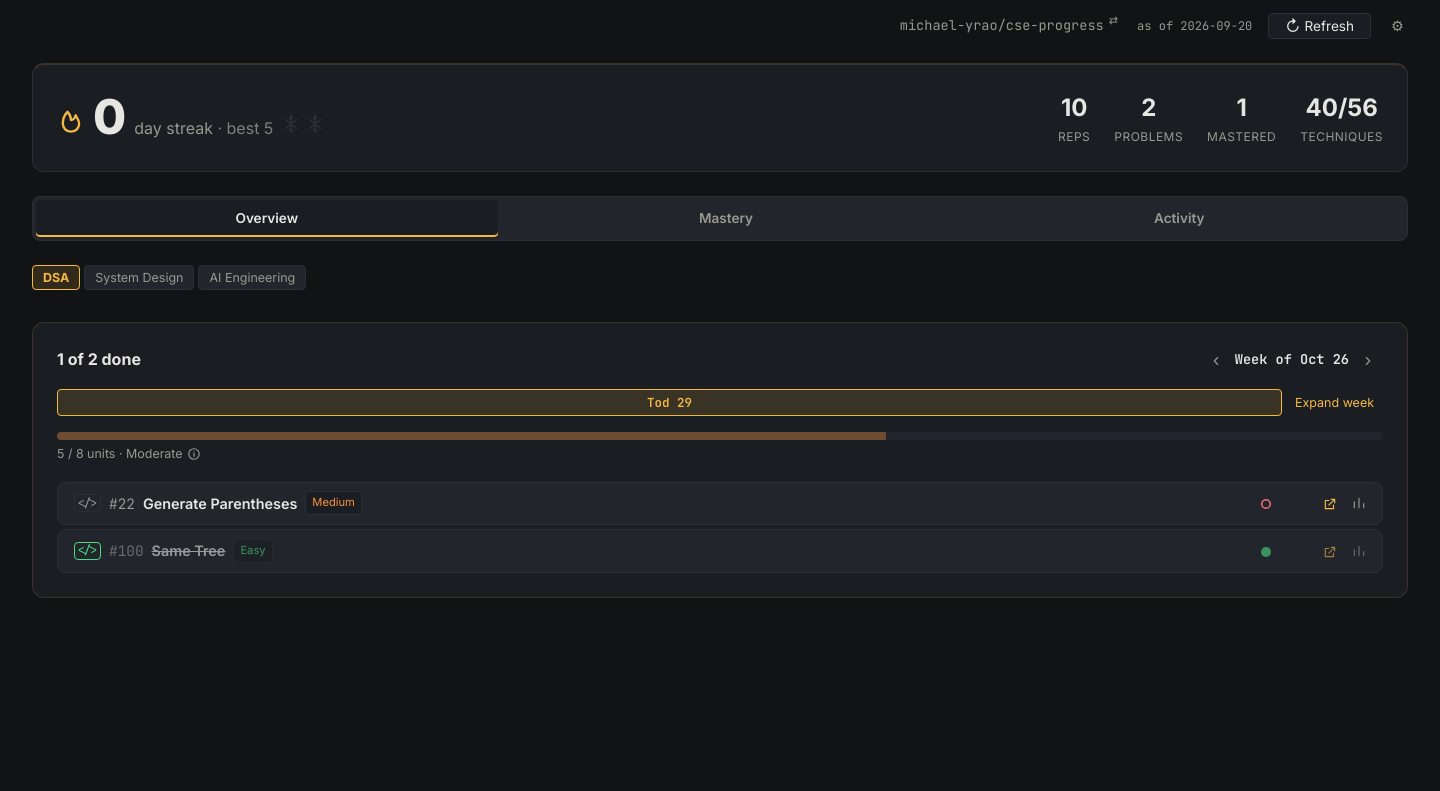
Test: ProgressPageComponent › the technique list is hidden until the roadmap card reveals it (toggle or tile), and shown when there is no roadmap card
Click the tab with id "tab-mastery" at (726, 218), box 500,200 -> 952,237
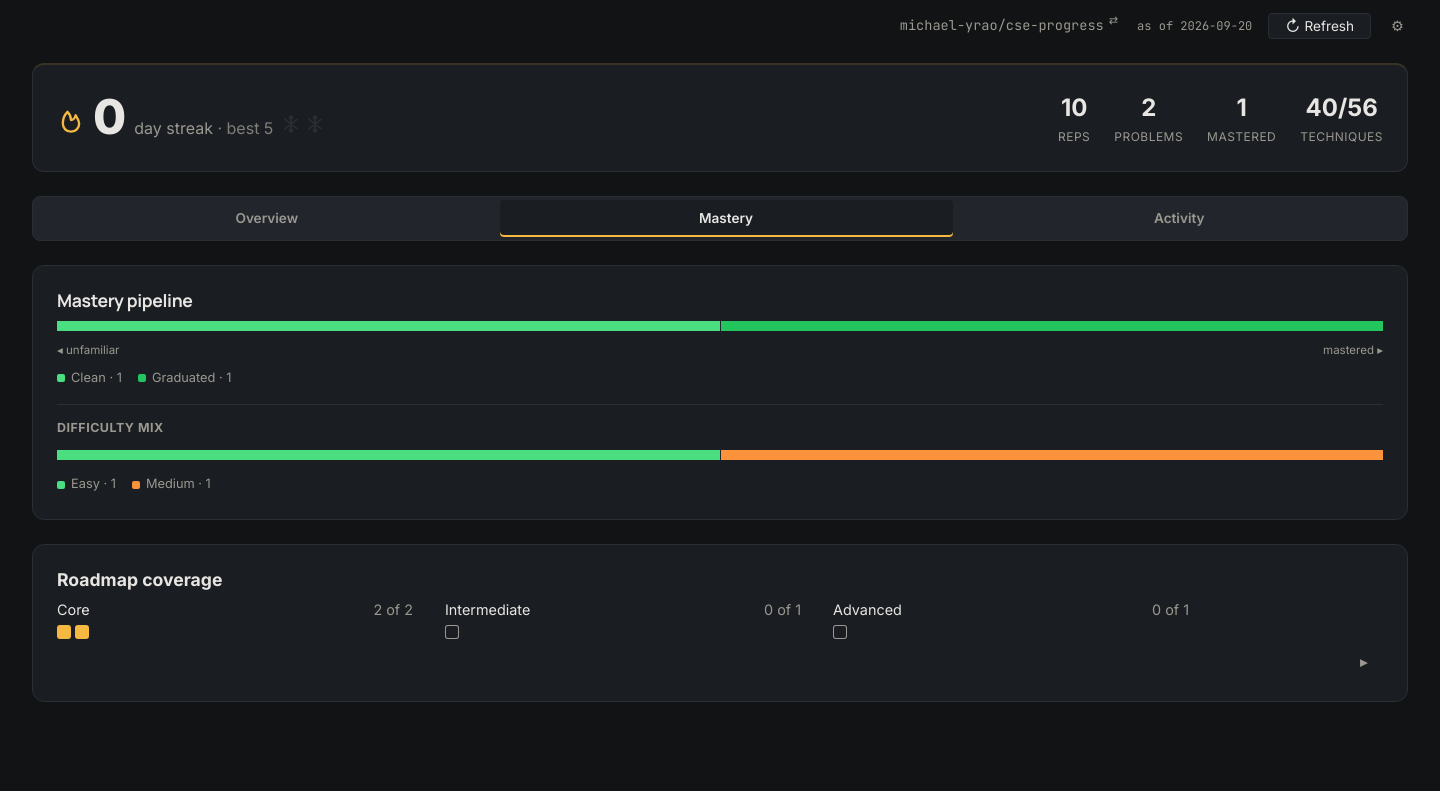
Click the button "▸" at (1364, 662), box 1344,647 -> 1383,677
(page scrolled)
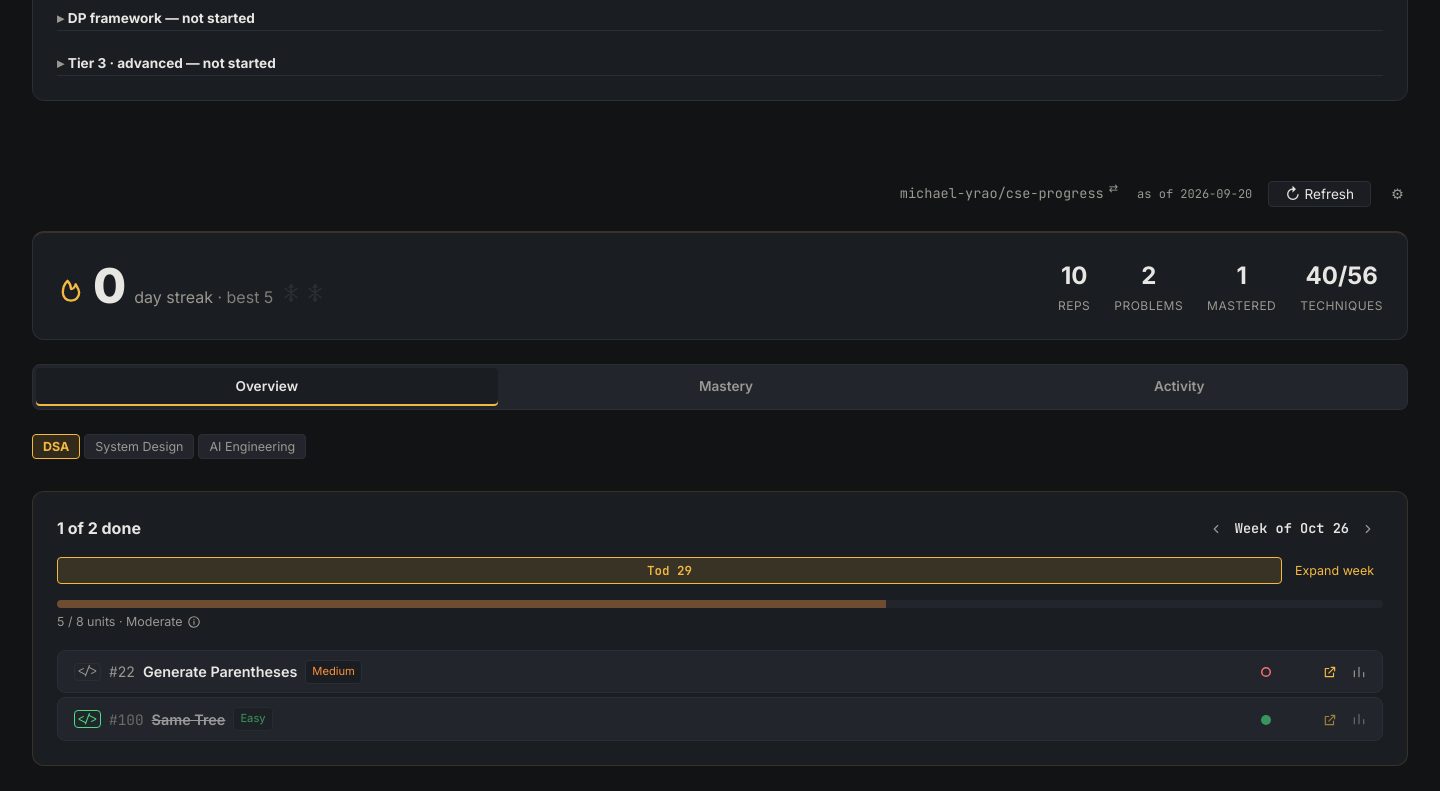
Click the tab with id "tab-mastery" at (726, 387), box 500,368 -> 952,406
(page scrolled)
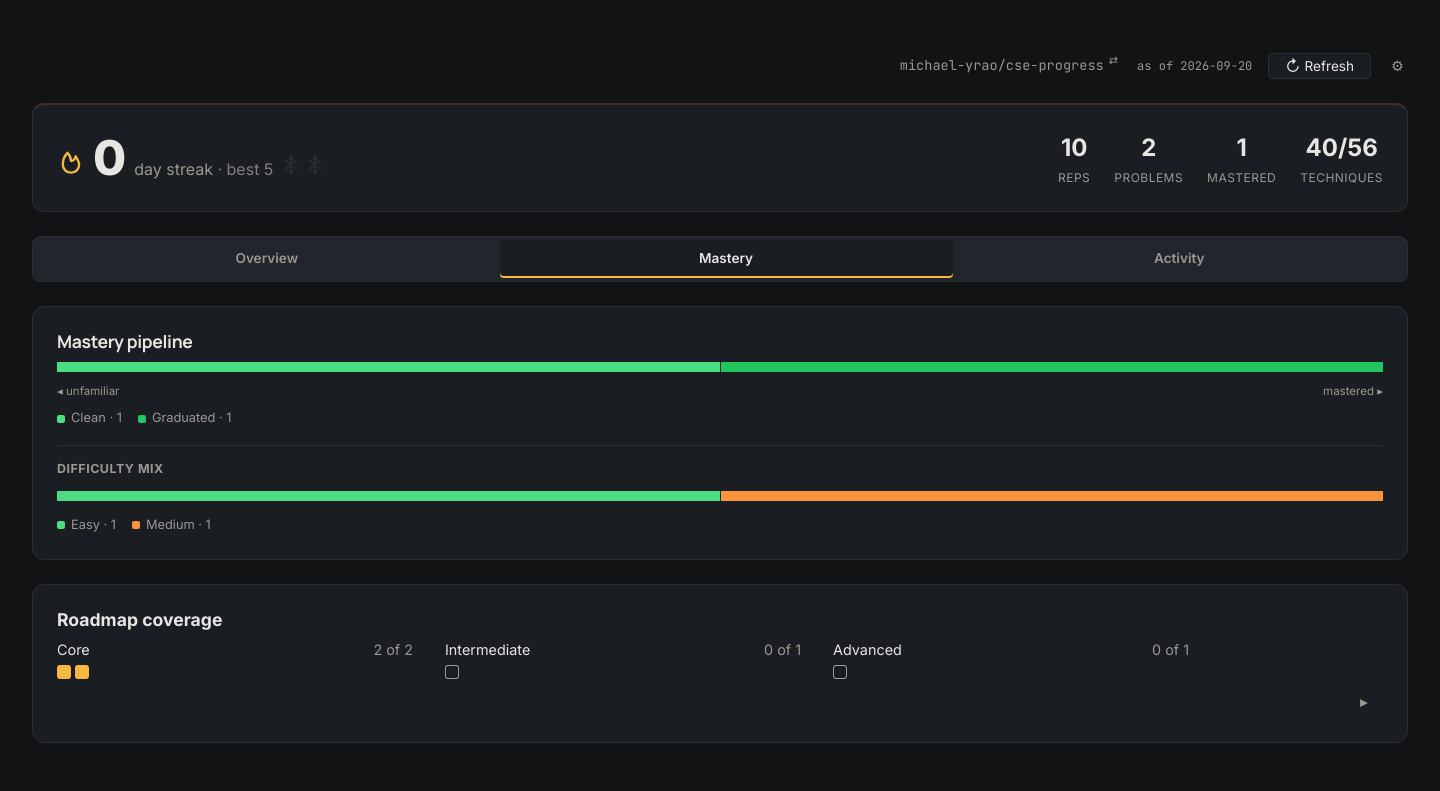
Click the 1st button with class "roadmap__tile" at (64, 672), box 57,665 -> 71,679
(page scrolled)
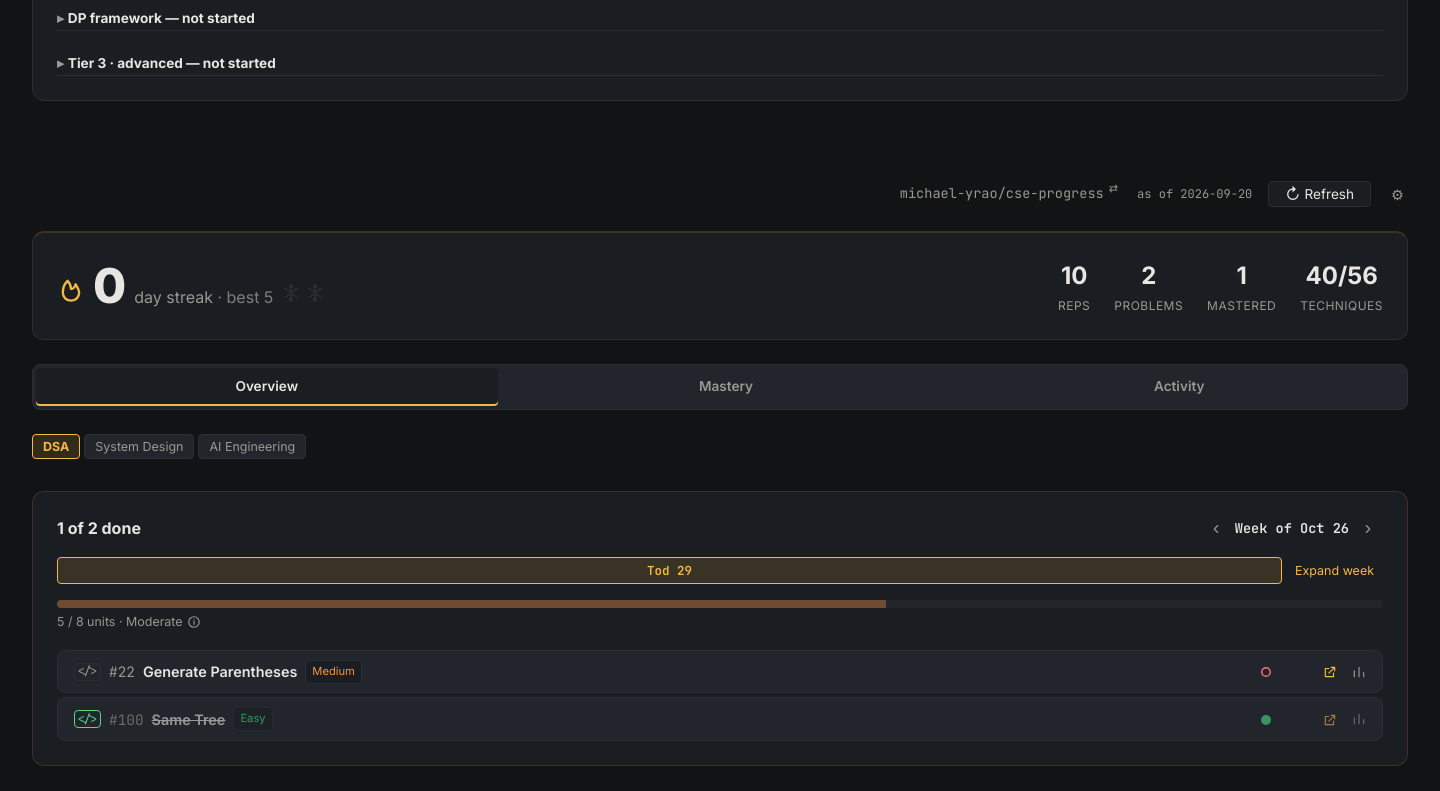
Click the tab with id "tab-mastery" at (726, 387), box 500,368 -> 952,406
(page scrolled)
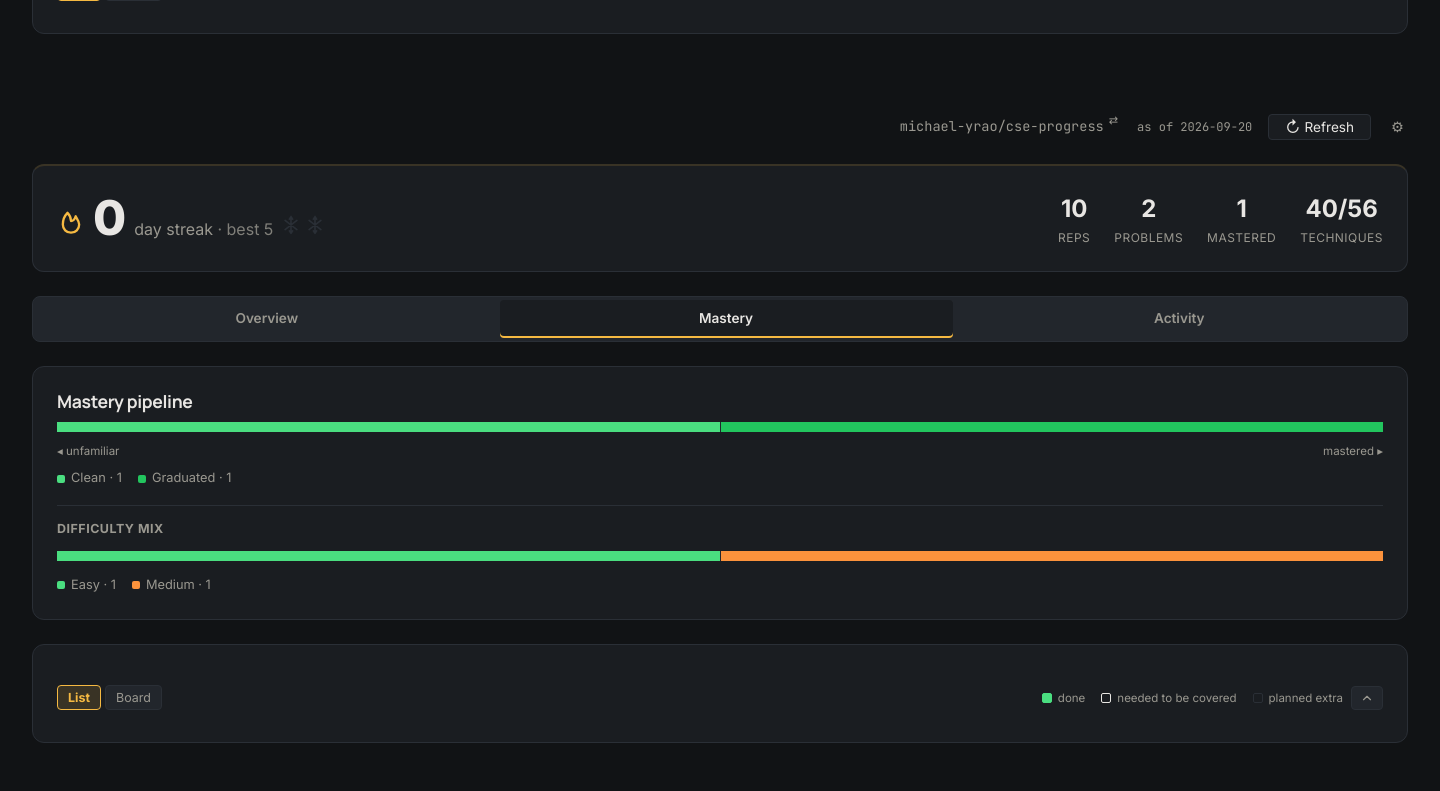
Result: the element showing "List Board done needed to be covered planned extra" is shown at 57,685 -> 1383,718
